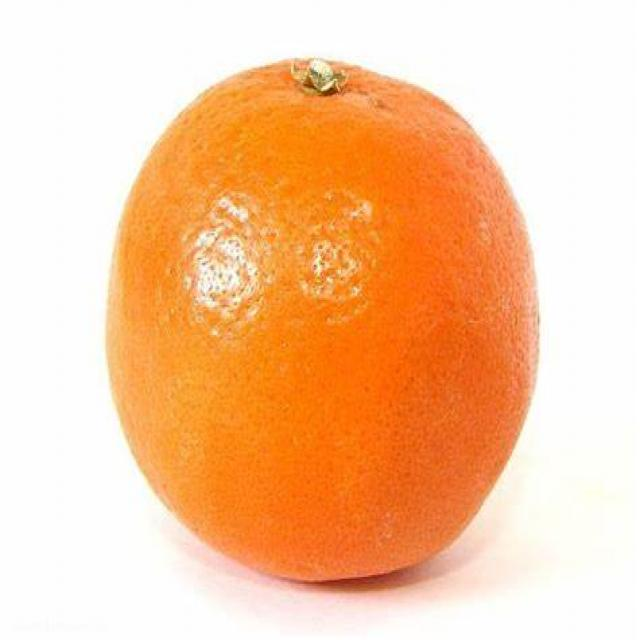Orange: (107, 54, 546, 584)
